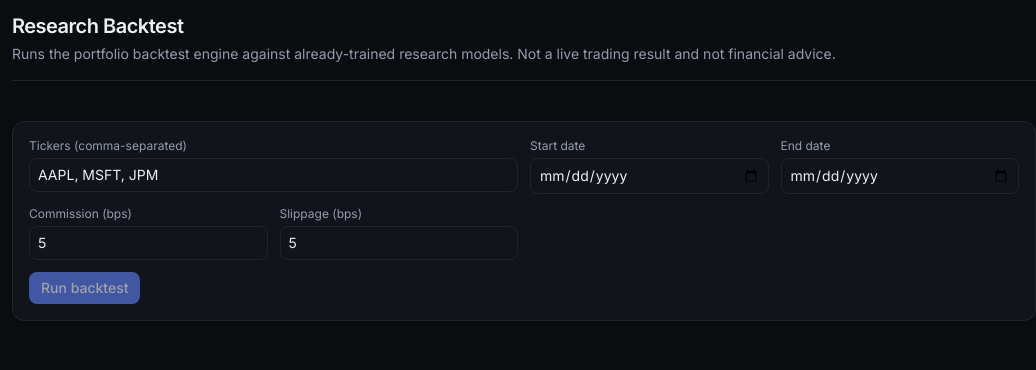
Scenario: BacktestPage › shows a readable message for a known error code
Type "2024-01-01" into the date field labelled "Start date" at (649, 176), box [530,158,768,194]
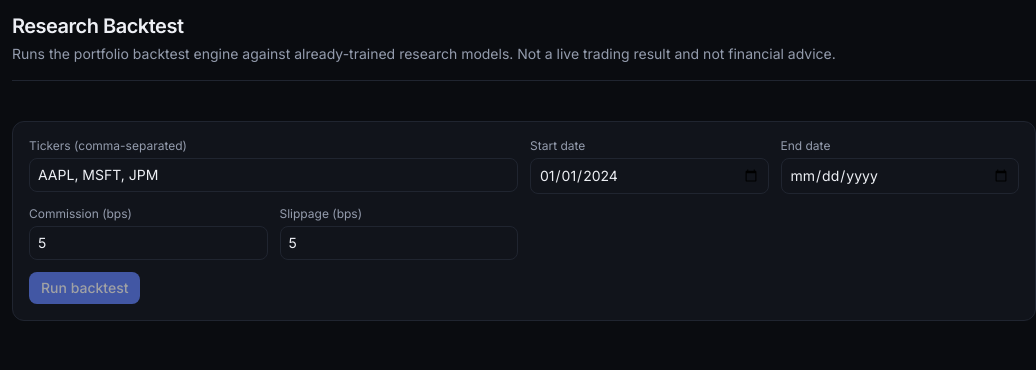
Type "2024-06-01" into the date field labelled "End date" at (900, 176), box [780,158,1019,194]
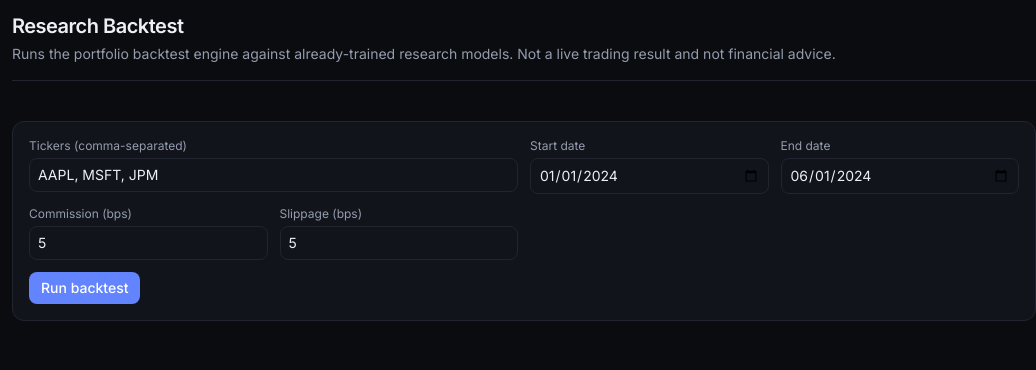
Click the button "Run backtest" at (85, 288), box [29,272,140,304]
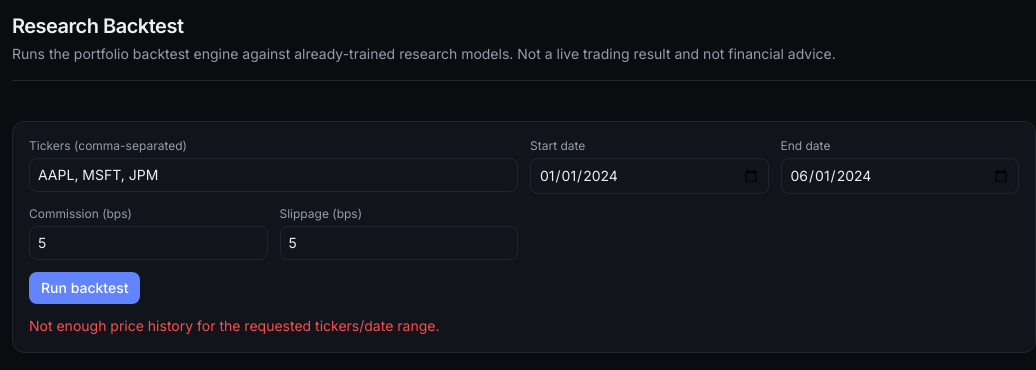
Result: the text "Not enough price history for the requested" is shown at [29,317,440,334]
